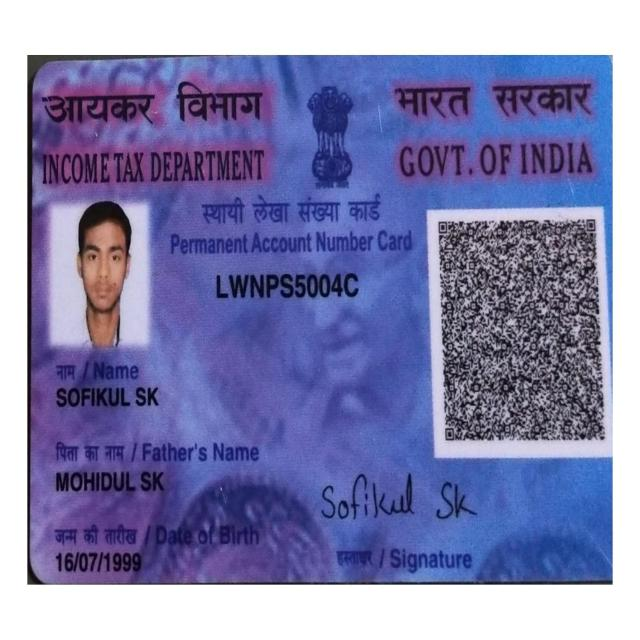pan_card: (32, 60, 609, 580)
